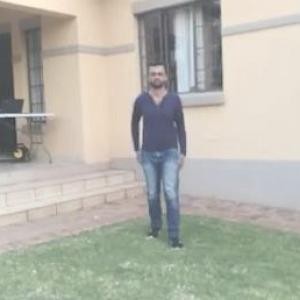follow: (126, 50, 186, 253)
